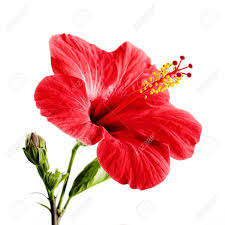hybiscus: (34, 28, 210, 189)
